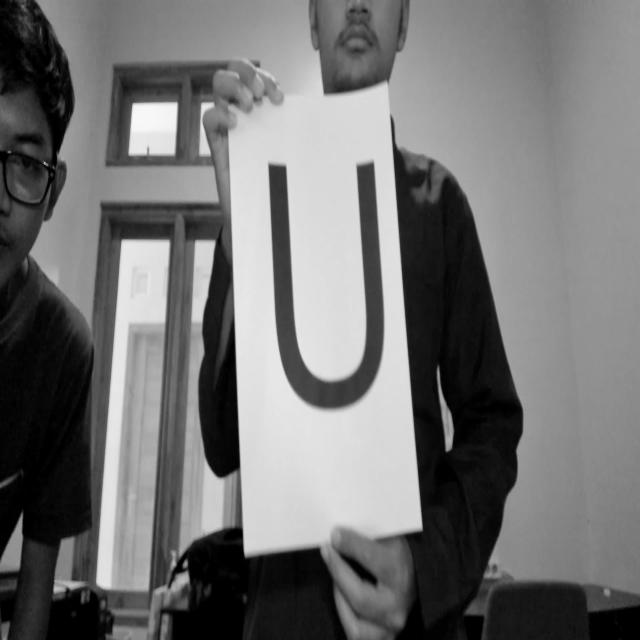u: (252, 125, 420, 442)
